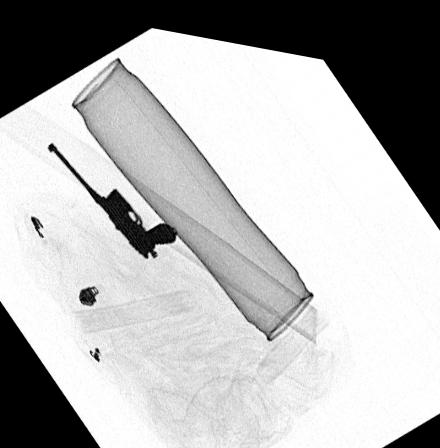Gun: (51, 141, 178, 253)
